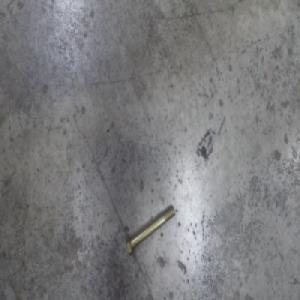Bolt: (125, 202, 175, 259)
